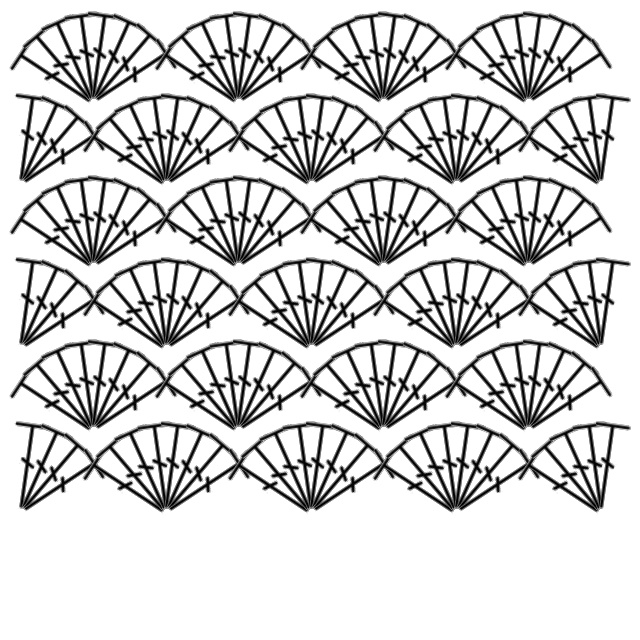double treble: (20, 19, 109, 115), (79, 19, 168, 115), (165, 19, 254, 115), (224, 19, 313, 115), (310, 19, 399, 115), (369, 19, 458, 115), (455, 19, 544, 115), (514, 19, 603, 115), (7, 101, 96, 197), (93, 101, 182, 197), (152, 101, 241, 197), (238, 101, 327, 197), (297, 101, 386, 197), (383, 101, 472, 197), (442, 101, 531, 197), (528, 101, 617, 197), (20, 183, 109, 279), (79, 183, 168, 279), (165, 183, 254, 279), (224, 183, 313, 279), (310, 183, 399, 279), (369, 183, 458, 279), (455, 183, 544, 279), (514, 183, 603, 279), (7, 265, 96, 361), (93, 265, 182, 361), (152, 265, 241, 361), (238, 265, 327, 361), (297, 265, 386, 361), (383, 265, 472, 361), (442, 265, 531, 361), (528, 265, 617, 361), (20, 347, 109, 443), (79, 347, 168, 443), (165, 347, 254, 443), (224, 347, 313, 443), (310, 347, 399, 443), (369, 347, 458, 443), (455, 347, 544, 443), (514, 347, 603, 443), (7, 429, 96, 525), (93, 429, 182, 525), (152, 429, 241, 525), (238, 429, 327, 525), (297, 429, 386, 525), (383, 429, 472, 525), (442, 429, 531, 525), (528, 429, 617, 525), (7, 35, 105, 118), (83, 35, 181, 118), (152, 35, 250, 118), (228, 35, 326, 118), (297, 35, 395, 118), (373, 35, 471, 118), (442, 35, 540, 118), (518, 35, 616, 118), (11, 117, 109, 200), (80, 117, 178, 200), (156, 117, 254, 200), (225, 117, 323, 200), (301, 117, 399, 200), (370, 117, 468, 200), (446, 117, 544, 200), (515, 117, 613, 200), (7, 199, 105, 282), (83, 199, 181, 282), (152, 199, 250, 282), (228, 199, 326, 282), (297, 199, 395, 282), (373, 199, 471, 282), (442, 199, 540, 282), (518, 199, 616, 282), (11, 281, 109, 364), (80, 281, 178, 364), (156, 281, 254, 364), (225, 281, 323, 364), (301, 281, 399, 364), (370, 281, 468, 364), (446, 281, 544, 364), (515, 281, 613, 364), (7, 363, 105, 446), (83, 363, 181, 446), (152, 363, 250, 446), (228, 363, 326, 446), (297, 363, 395, 446), (373, 363, 471, 446), (442, 363, 540, 446), (518, 363, 616, 446), (11, 445, 109, 528), (80, 445, 178, 528), (156, 445, 254, 528), (225, 445, 323, 528), (301, 445, 399, 528), (370, 445, 468, 528), (446, 445, 544, 528), (515, 445, 613, 528), (38, 10, 112, 110), (76, 10, 150, 110), (183, 10, 257, 110), (221, 10, 295, 110), (328, 10, 402, 110), (366, 10, 440, 110), (473, 10, 547, 110), (511, 10, 585, 110), (4, 92, 78, 192), (111, 92, 185, 192), (149, 92, 223, 192), (256, 92, 330, 192), (294, 92, 368, 192), (401, 92, 475, 192), (439, 92, 513, 192), (546, 92, 620, 192), (38, 174, 112, 274), (76, 174, 150, 274), (183, 174, 257, 274), (221, 174, 295, 274), (328, 174, 402, 274), (366, 174, 440, 274), (473, 174, 547, 274), (511, 174, 585, 274), (4, 256, 78, 356), (111, 256, 185, 356), (149, 256, 223, 356), (256, 256, 330, 356), (294, 256, 368, 356), (401, 256, 475, 356), (439, 256, 513, 356), (546, 256, 620, 356), (38, 338, 112, 438), (76, 338, 150, 438), (183, 338, 257, 438), (221, 338, 295, 438), (328, 338, 402, 438), (366, 338, 440, 438), (473, 338, 547, 438), (511, 338, 585, 438), (4, 420, 78, 520), (111, 420, 185, 520), (149, 420, 223, 520), (256, 420, 330, 520), (294, 420, 368, 520), (401, 420, 475, 520), (439, 420, 513, 520), (546, 420, 620, 520), (62, 8, 113, 105), (75, 8, 126, 105), (207, 8, 258, 105), (220, 8, 271, 105), (352, 8, 403, 105), (365, 8, 416, 105), (497, 8, 548, 105), (510, 8, 561, 105), (3, 90, 54, 187), (135, 90, 186, 187), (148, 90, 199, 187), (280, 90, 331, 187), (293, 90, 344, 187), (425, 90, 476, 187), (438, 90, 489, 187), (570, 90, 621, 187), (583, 90, 634, 187), (62, 172, 113, 269), (75, 172, 126, 269), (207, 172, 258, 269), (220, 172, 271, 269), (352, 172, 403, 269), (365, 172, 416, 269), (497, 172, 548, 269), (510, 172, 561, 269), (3, 254, 54, 351), (135, 254, 186, 351), (148, 254, 199, 351), (280, 254, 331, 351), (293, 254, 344, 351), (425, 254, 476, 351), (438, 254, 489, 351), (570, 254, 621, 351), (583, 254, 634, 351), (62, 336, 113, 433), (75, 336, 126, 433), (207, 336, 258, 433), (220, 336, 271, 433), (352, 336, 403, 433), (365, 336, 416, 433), (497, 336, 548, 433), (510, 336, 561, 433), (3, 418, 54, 515), (135, 418, 186, 515), (148, 418, 199, 515), (280, 418, 331, 515), (293, 418, 344, 515), (425, 418, 476, 515), (438, 418, 489, 515), (570, 418, 621, 515), (583, 418, 634, 515)
